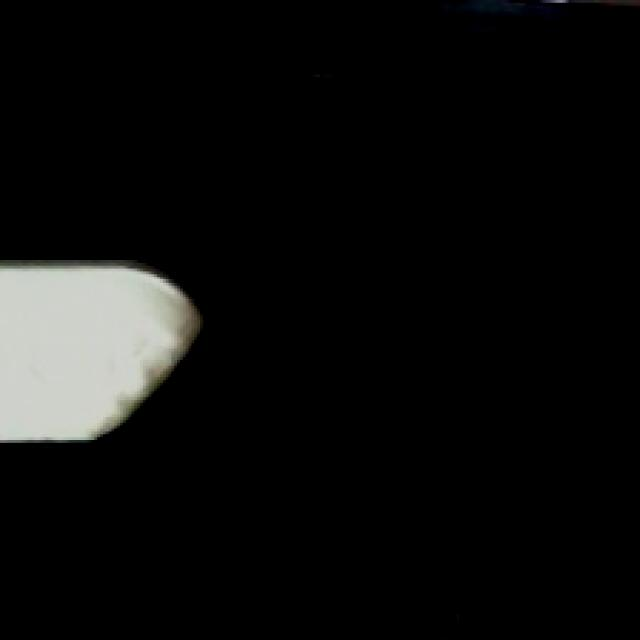defected: (0, 255, 215, 455)
